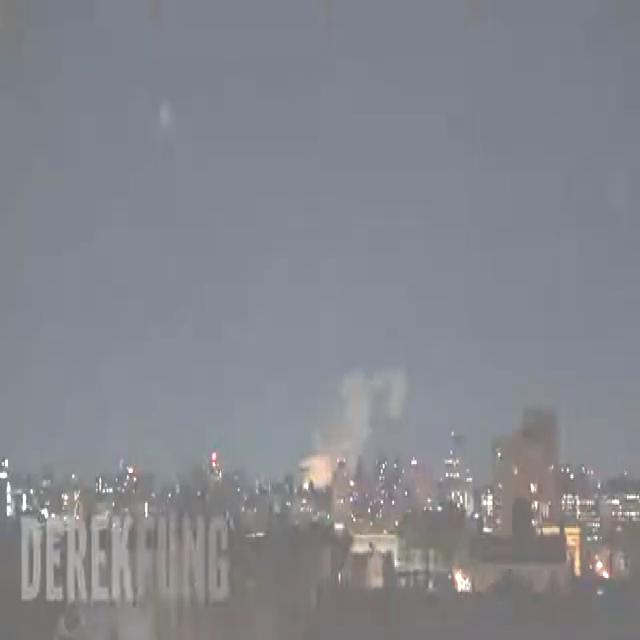smoke: (298, 366, 410, 496)
